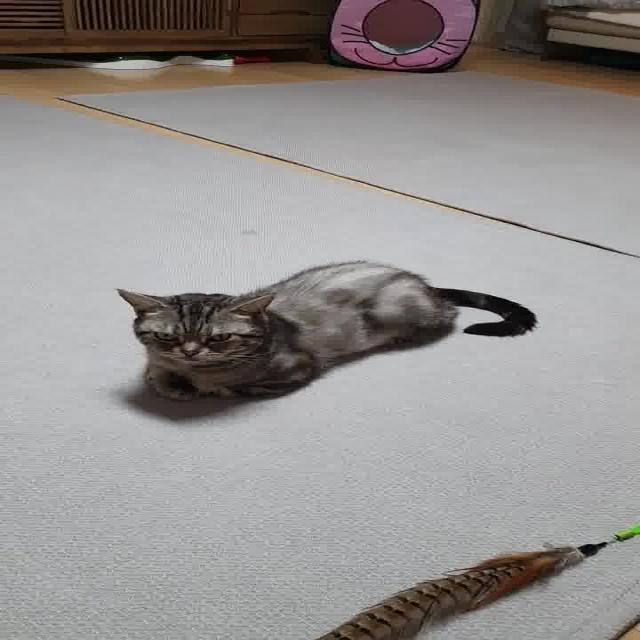cat: (100, 258, 540, 410)
